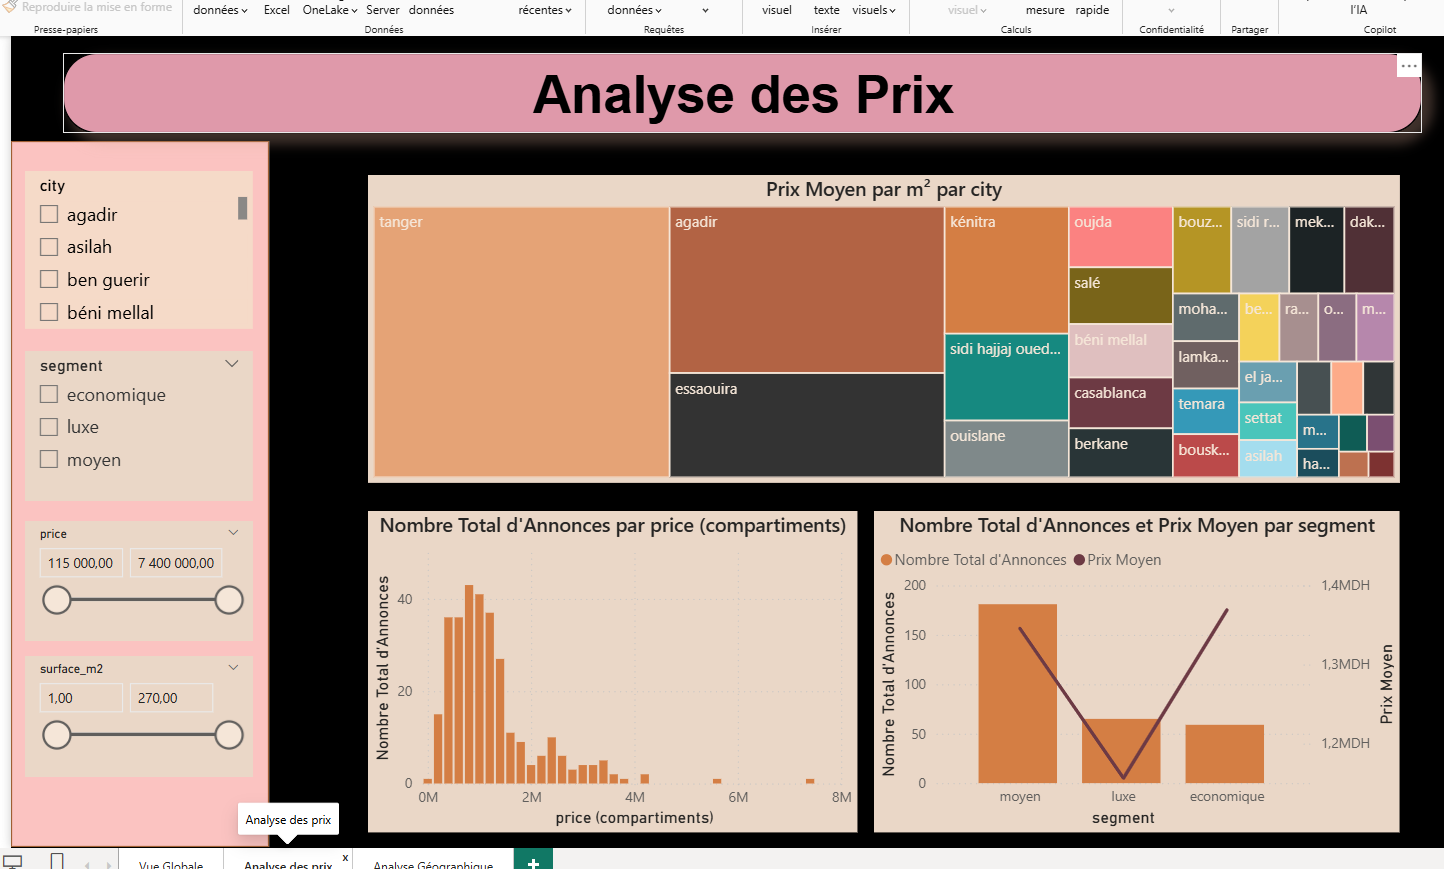

This screenshot's page, from the dashboard's own definition file:
{"tool":"powerbi","page":{"name":"Analyse des prix","canvas":[1280,720],"ordinal":1},"visuals":[{"type":"treemap","fields":{"Group":["bi_schema dim_localisation.city"],"Values":["Mesures.Prix Moyen par m²"]},"box":[316.6,123.3,915.1,273.1],"z":0},{"type":"shape","box":[0,93.1,228.8,626],"z":1000},{"type":"clusteredColumnChart","fields":{"Category":["bi_schema fact_annonce.price (compartiments)"],"Y":["Mesures.Nombre Total d'Annonces"]},"box":[316.6,421.2,434.5,284.6],"z":2000},{"type":"lineStackedColumnComboChart","fields":{"Category":["bi_schema dim_caracteristiques.segment"],"Y":["Mesures.Nombre Total d'Annonces"],"Y2":["Mesures.Prix Moyen"]},"box":[765.2,421.2,466.4,284.6],"z":3000},{"type":"slicer","fields":{"Values":["bi_schema fact_annonce.price"]},"box":[12.8,429.7,202.3,106.1],"z":4000},{"type":"slicer","fields":{"Values":["bi_schema dim_caracteristiques.segment"]},"box":[12.8,279.5,202.3,133.4],"z":5000},{"type":"slicer","fields":{"Values":["bi_schema dim_localisation.city"]},"box":[12.8,119.8,202.3,139.7],"z":6000},{"type":"textbox","title":"Analyse des Prix","box":[46.1,15.1,1205,70.9],"z":7000},{"type":"slicer","fields":{"Values":["bi_schema dim_caracteristiques.surface_m2"]},"box":[12.8,549.4,202.3,107.1],"z":8000}]}

Visuals, with their boxes in screenshot pixels (x1, y1, x2, y2):
treemap - bi_schema dim_localisation.city x Mesures.Prix Moyen par m²: select_region(360, 175, 1378, 479)
shape: select_region(8, 141, 262, 838)
clusteredColumnChart - bi_schema fact_annonce.price (compartiments) x Mesures.Nombre Total d'Annonces: select_region(360, 506, 843, 823)
lineStackedColumnComboChart - bi_schema dim_caracteristiques.segment x Mesures.Nombre Total d'Annonces: select_region(859, 506, 1378, 823)
slicer - bi_schema fact_annonce.price: select_region(22, 516, 247, 634)
slicer - bi_schema dim_caracteristiques.segment: select_region(22, 349, 247, 497)
slicer - bi_schema dim_localisation.city: select_region(22, 171, 247, 326)
"Analyse des Prix" textbox: select_region(59, 54, 1399, 133)
slicer - bi_schema dim_caracteristiques.surface_m2: select_region(22, 649, 247, 768)
